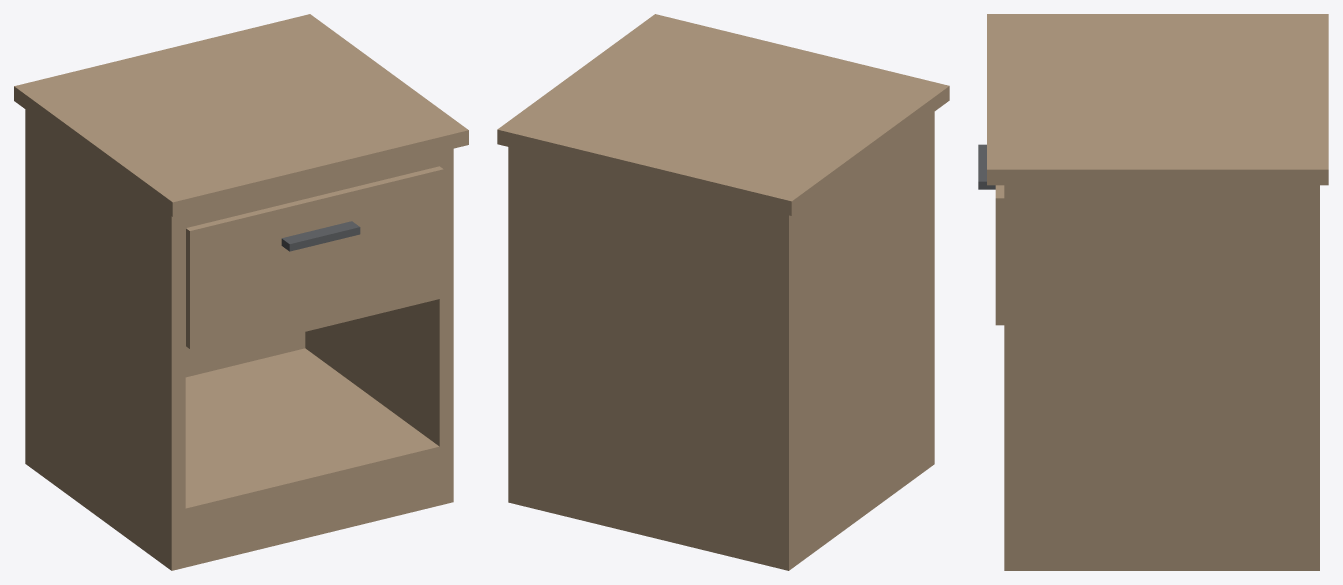
File: project-149.glb
3 renders of one model, left to right at view 1: azimuth 30°, elevation 25°; view 2: azimuth 150°, elevation 25°; view 3: azimuth 270°, elevation 25°, orthographic. The views are drawn at different scales.
Visible parts, largest first — view 1: Mesh_Mesh_head_geo.001_lambert2SG.001; view 2: Mesh_Mesh_head_geo.001_lambert2SG.001; view 3: Mesh_Mesh_head_geo.001_lambert2SG.001.
Part boxes in pixels (x1,y1,x2,y2): Mesh_Mesh_head_geo.001_lambert2SG.001: (14,14,468,570); Mesh_Mesh_head_geo.001_lambert2SG.001: (497,14,949,570); Mesh_Mesh_head_geo.001_lambert2SG.001: (978,14,1328,570).
Size of the model in its own units: 42 by 51 by 40.
